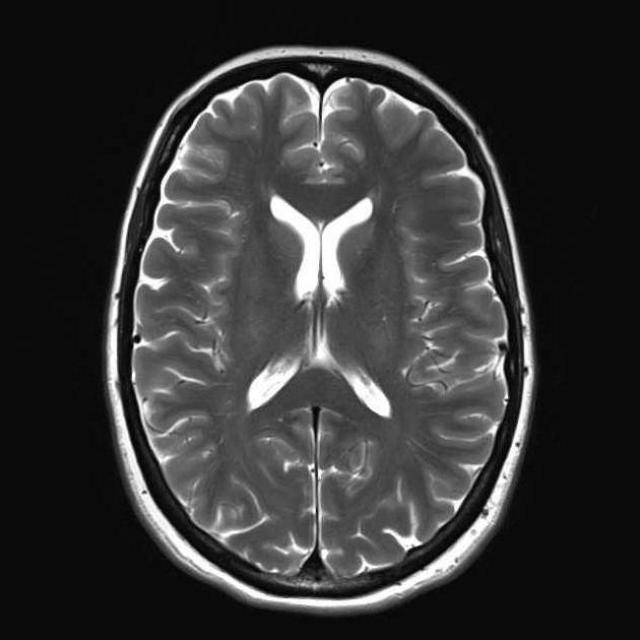notumor: (108, 49, 533, 613)
